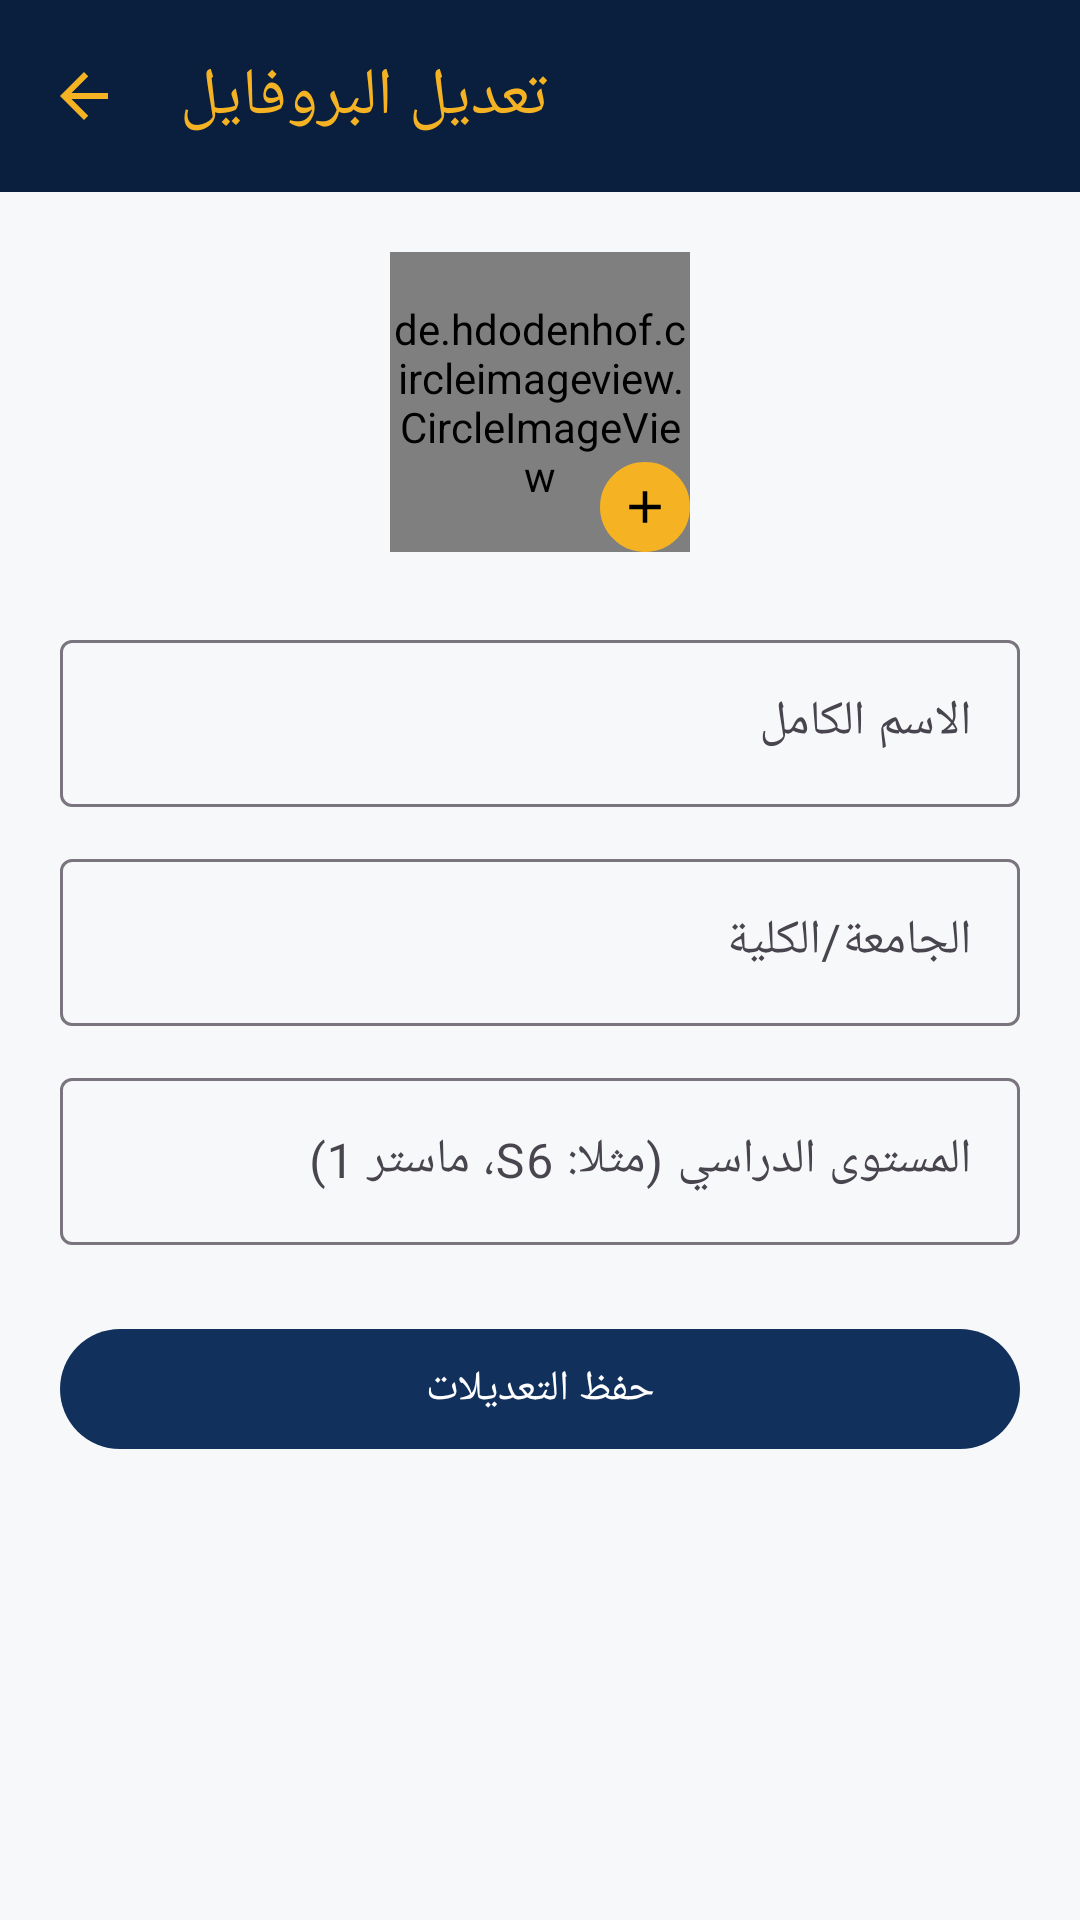

Icon click points for this 1080 x 1920 phone screenshot, format [x,y]:
add: [645,507]
